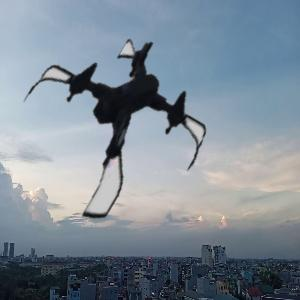drone: (19, 31, 211, 223)
